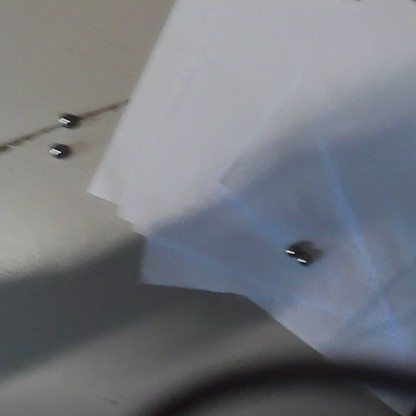ironball: (55, 106, 80, 132), (47, 140, 70, 166), (279, 240, 297, 259), (292, 252, 309, 271)
